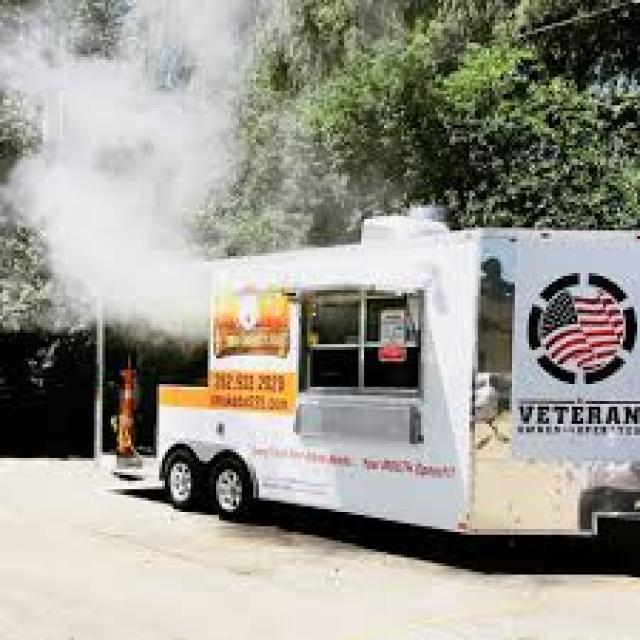Smoke: (0, 0, 428, 358)
